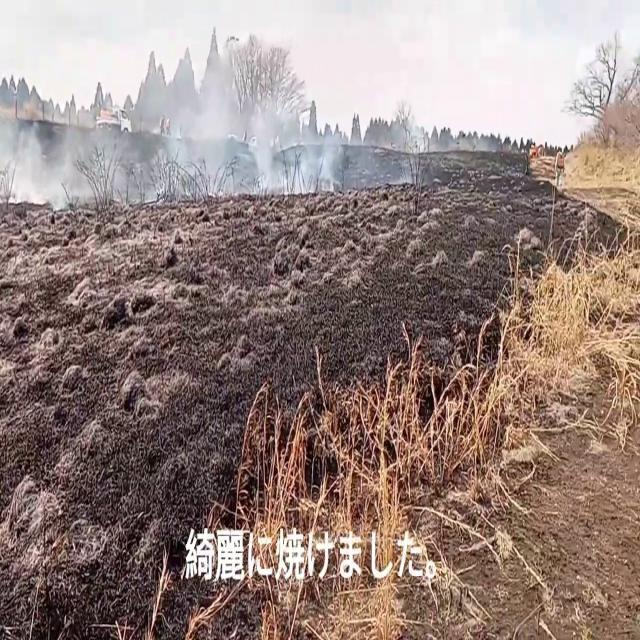Smoke: (1, 1, 420, 229)
